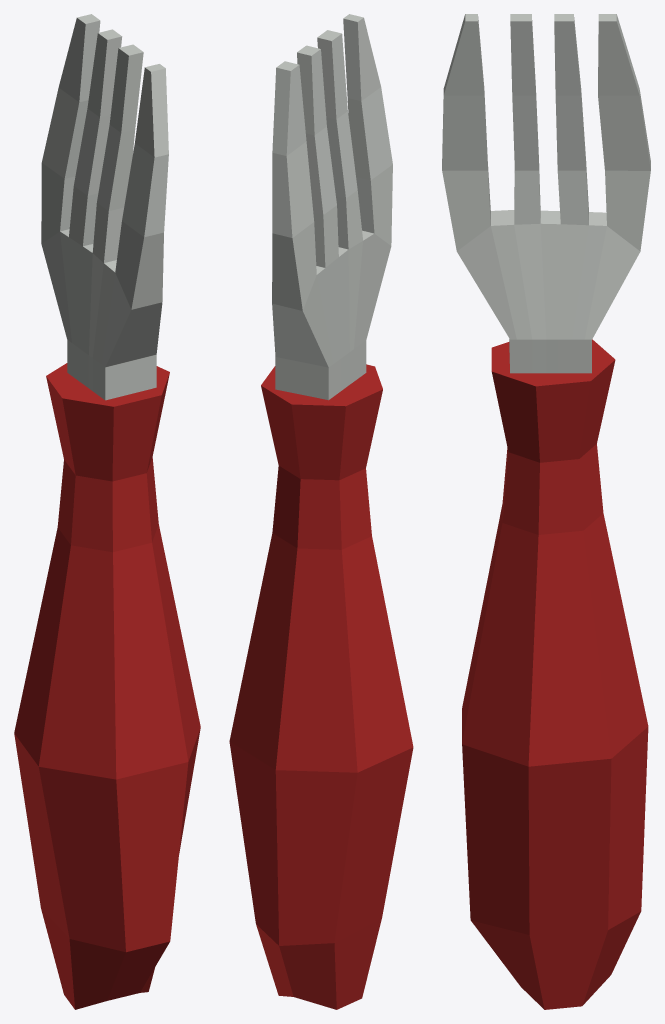
Rendered from fork-red.fbx.
3 views of the same model, side by side, from view 1: azimuth 30°, elevation 25°; view 2: azimuth 150°, elevation 25°; view 3: azimuth 270°, elevation 25° (orthographic). The views are drawn at different scales.
Parts seen in each view (by area): view 1: fork.004; view 2: fork.004; view 3: fork.004.
Boxes of the visible parts, <box> form: fork.004: <box>14,14,200,1009</box>; fork.004: <box>229,14,413,1009</box>; fork.004: <box>442,14,650,1009</box>.
Size of the model in its own units: 142 by 800 by 155.
